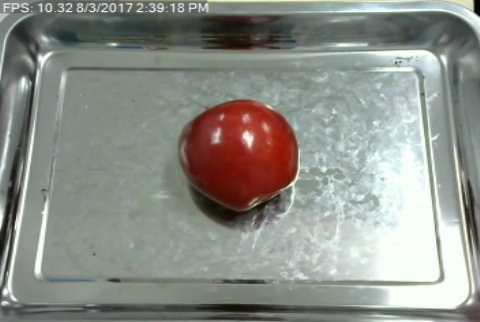Apple: (172, 97, 308, 214)
